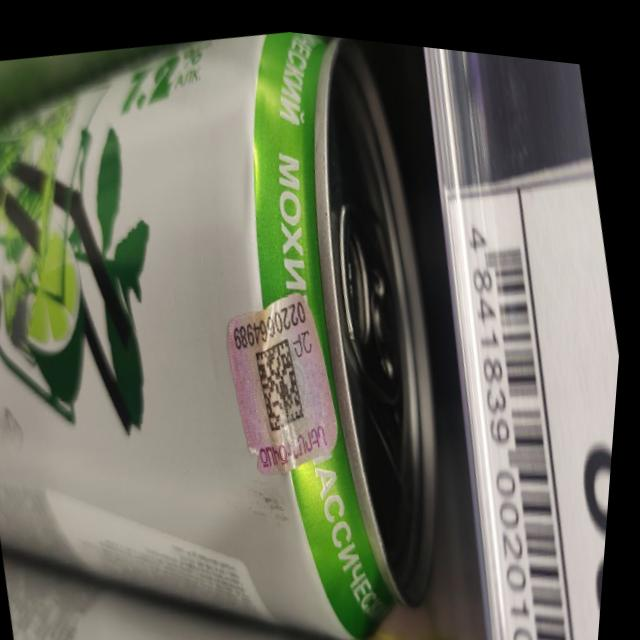datamatrix: (252, 327, 320, 433)
